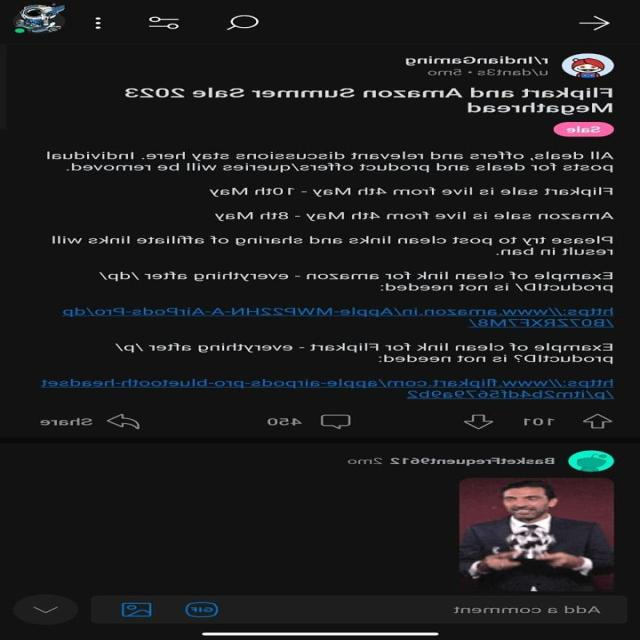Drawer: (553, 122, 614, 137), (223, 13, 258, 32), (574, 15, 612, 32), (144, 15, 182, 32), (316, 413, 352, 430), (580, 414, 614, 430), (464, 412, 492, 430), (88, 13, 105, 32)
EditText: (460, 474, 618, 592), (11, 3, 68, 34), (562, 53, 614, 79), (567, 450, 612, 470)
Icon: (38, 378, 616, 402), (59, 306, 616, 330)
Modal: (121, 84, 616, 114), (41, 150, 613, 174), (47, 235, 612, 258), (96, 269, 614, 291), (110, 344, 612, 364), (205, 185, 614, 197), (213, 211, 614, 220), (384, 457, 556, 466), (424, 68, 554, 77), (520, 416, 554, 429), (343, 455, 383, 466), (264, 417, 302, 427)
